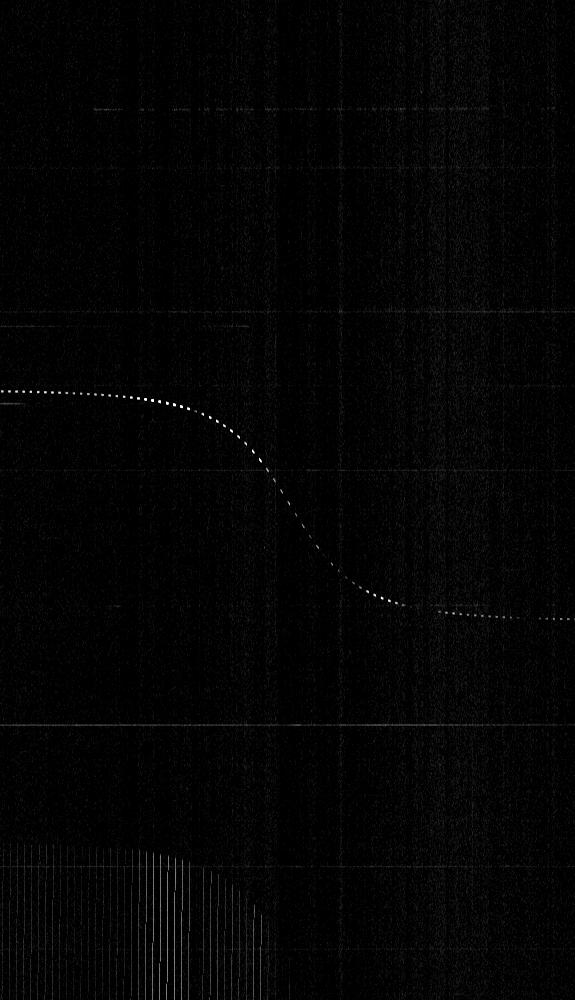signal: (0, 0, 574, 999)
